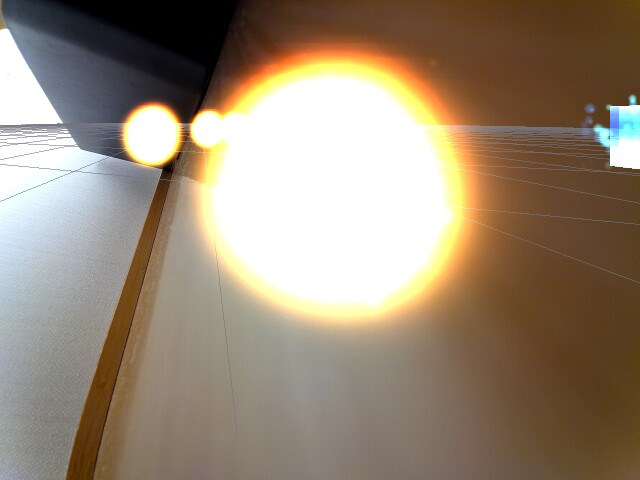firebig: (235, 35, 475, 339)
